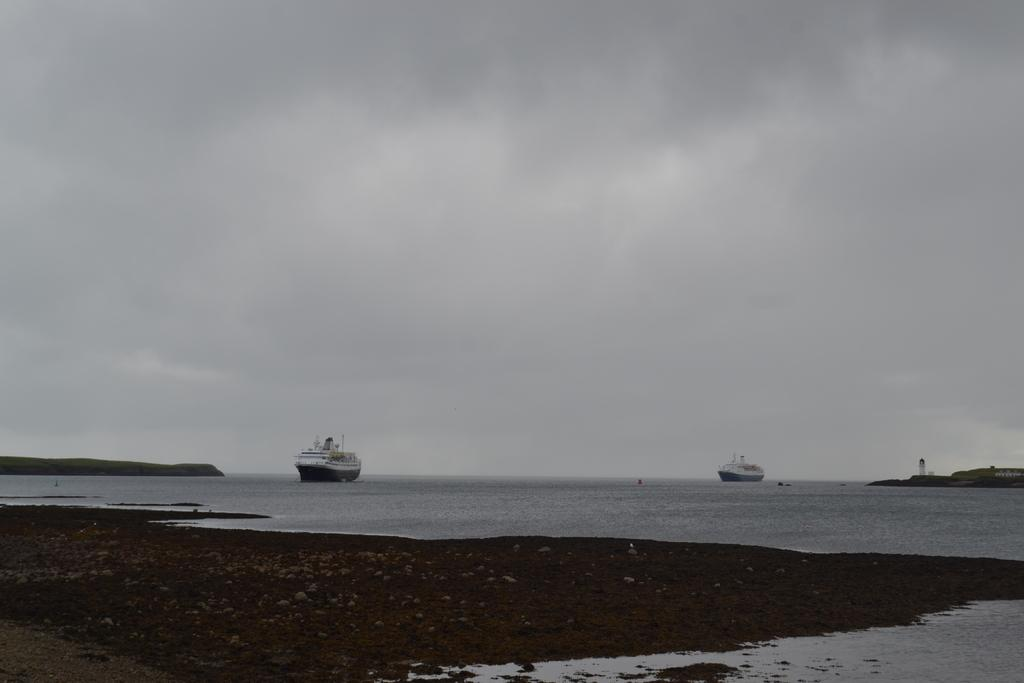PassengerShip: (281, 431, 373, 485), (716, 456, 766, 480)
